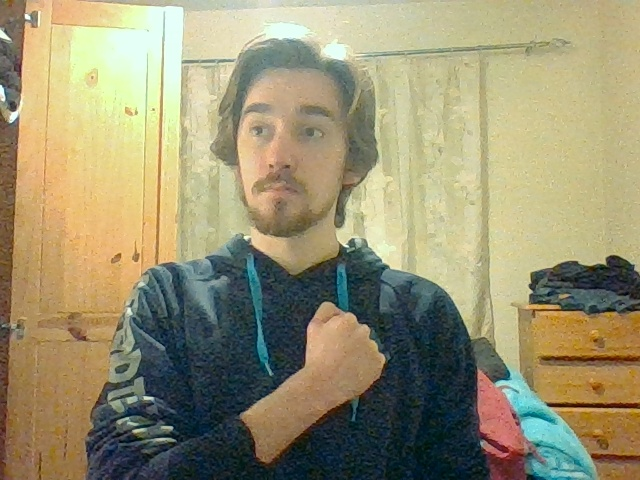my: (303, 300, 386, 406)
